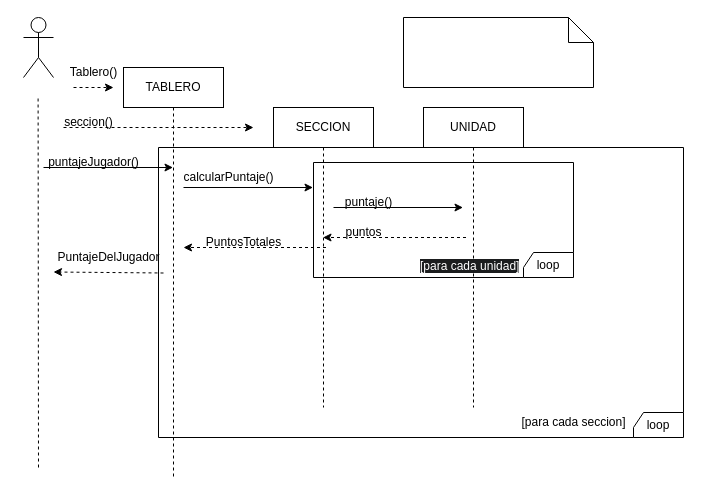
This 701x495 diagram has some shape labels left out. Here are the shapes that lost their labels. From the top down, the centre of each, then its label:
At point (38, 47): "RONDA".
At point (498, 52): "Unidad se debe haber creado al iniciar la partida".
